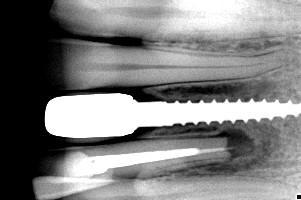Furcation Involvement: (208, 127, 254, 160)
